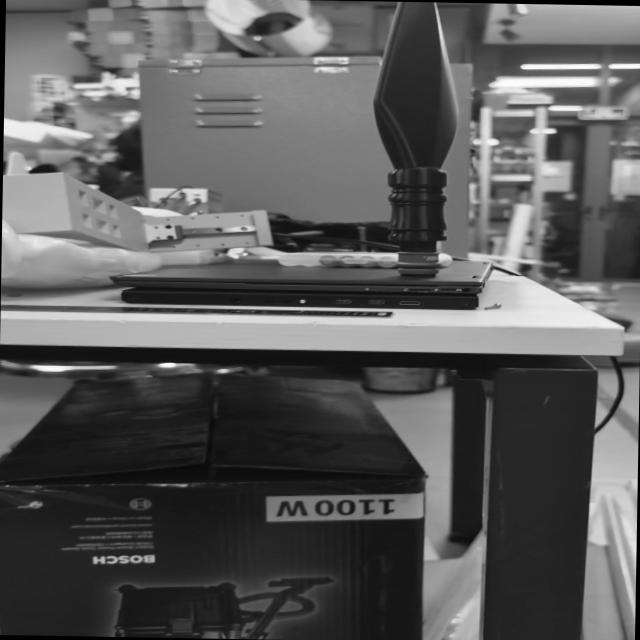base: (388, 246, 451, 284)
